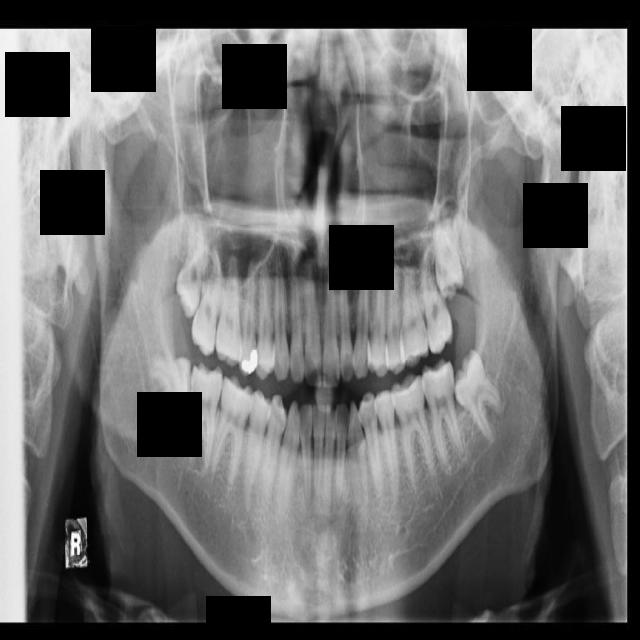3M ESPE Implant: (170, 215, 213, 320)
52: (239, 336, 258, 377)
73: (594, 590, 600, 601)
BioHorizons Implant: (417, 242, 455, 355)
BioLife Implant: (429, 223, 466, 302)
Biomet 3i Implant: (438, 345, 517, 449)
Blue Sky Bio Implant: (418, 357, 468, 474)
Caries: (188, 245, 226, 358)
Implant: (186, 360, 224, 477)
Keystone Dental Implant: (149, 356, 193, 427)
